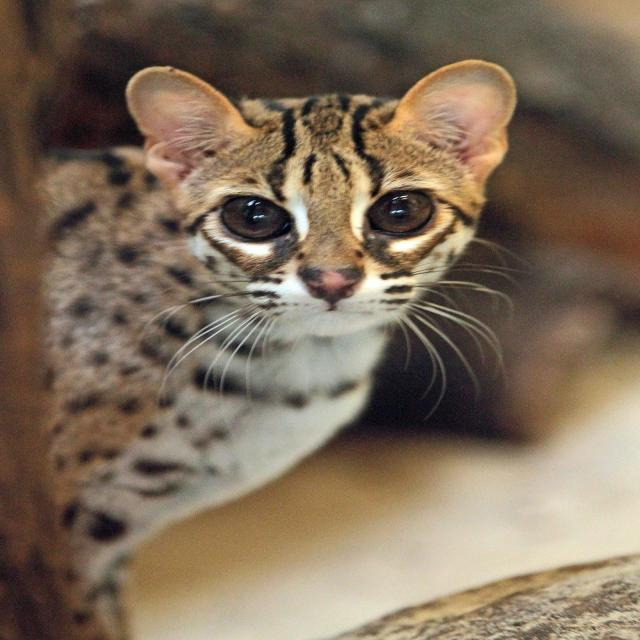leopard: (131, 68, 484, 442)
